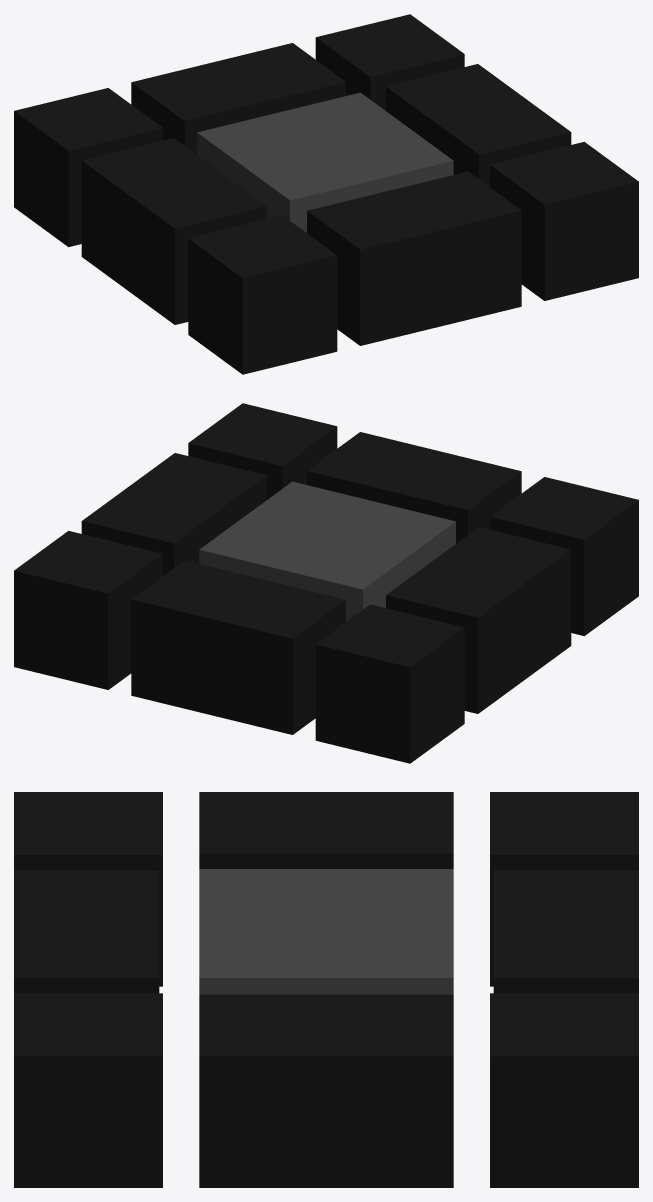
The model's file is nineStones.obj.
3 views of the same model, one above another, from view 1: azimuth 30°, elevation 25°; view 2: azimuth 150°, elevation 25°; view 3: azimuth 270°, elevation 25° (orthographic). The views are drawn at different scales.
Bounding box in the file's own units: 17.2 × 4 × 17.2.
1 material, 1 textured.
